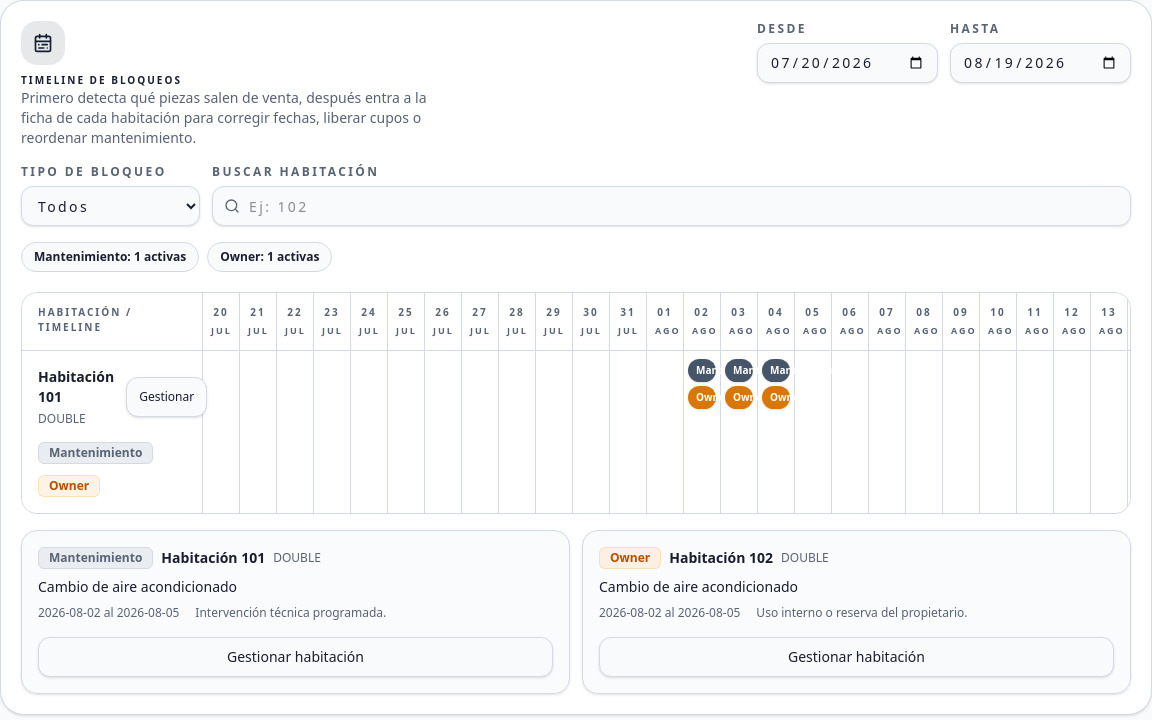
Test case: RoomHoldsBoardPanel › filters holds by type
Expected: the text "Mantenimiento: 1 activas" is shown, [21,242,199,272]
Expected: the text "Owner: 1 activas" is shown, [207,242,332,272]
Select "Owner" in the dropdown labelled "Tipo de bloqueo" at (110, 206), box [21,186,200,226]
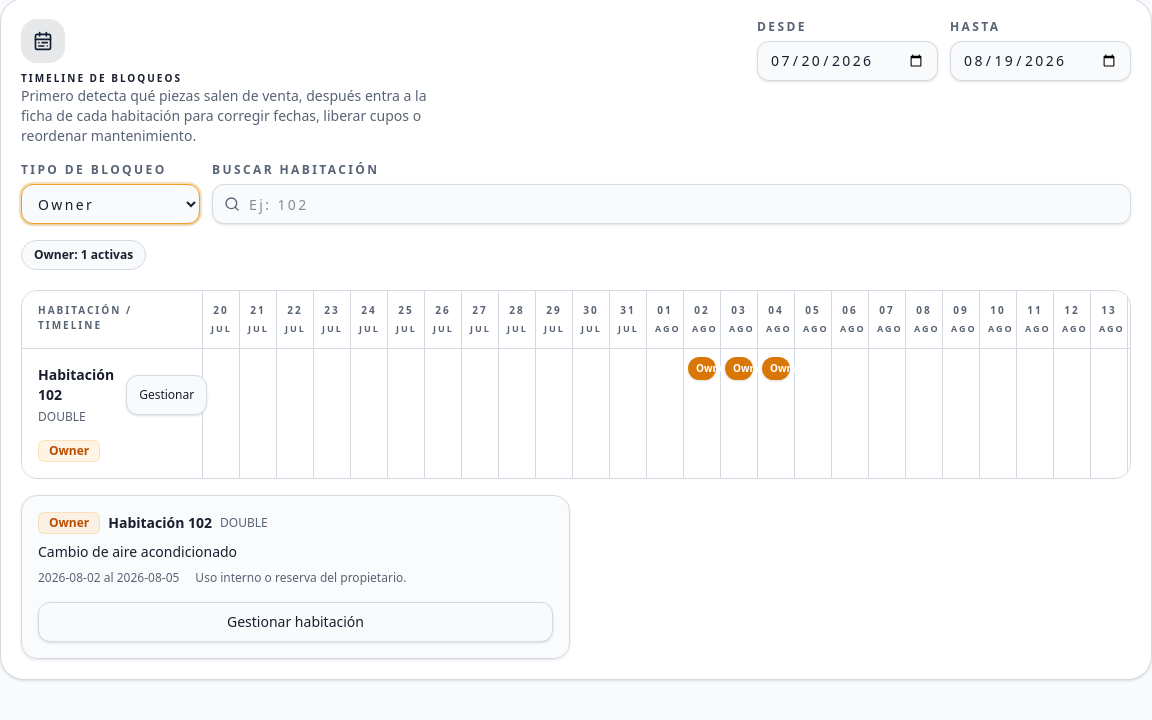
Expected: the text "Owner: 1 activas" is shown, [21,240,146,270]
Now the text "Mantenimiento: 1 activas" is gone
